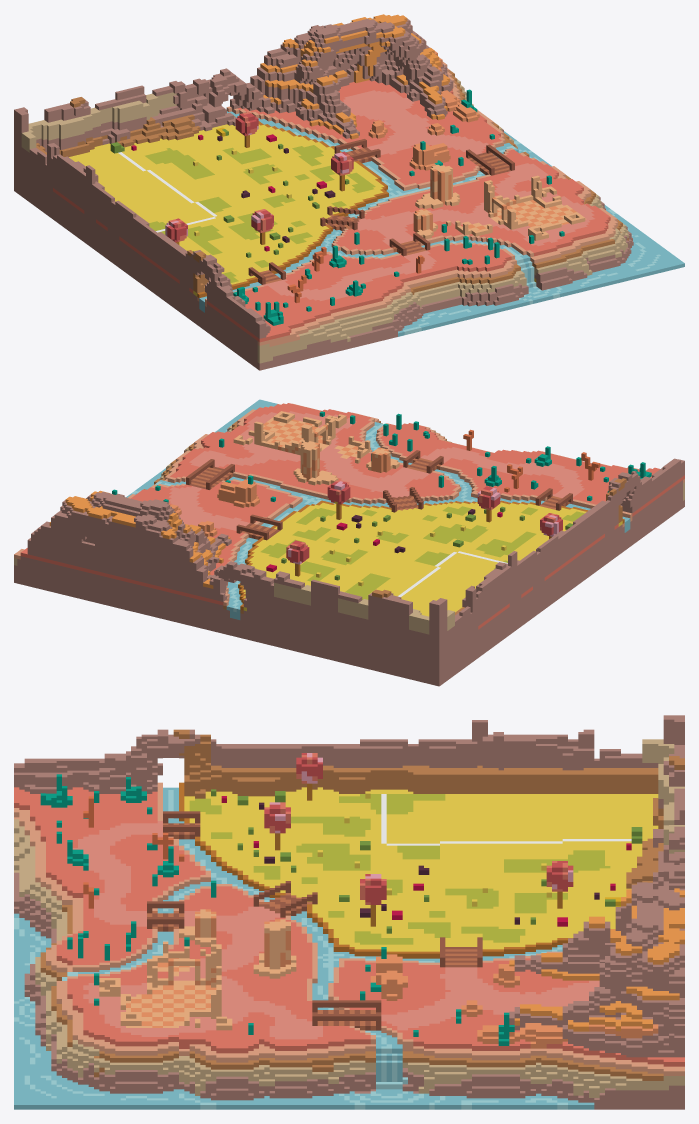
Rendered from mainland mk5.obj.
3 renders of one model, top to bottom at view 1: azimuth 30°, elevation 25°; view 2: azimuth 150°, elevation 25°; view 3: azimuth 270°, elevation 25°, orthographic. The views are drawn at different scales.
Bounding box in the file's own units: 126 × 28 × 126.
